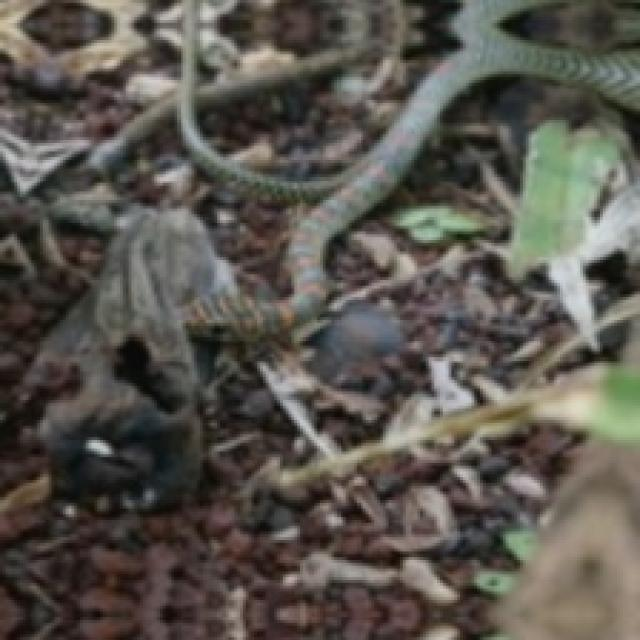paradise tree snake: (177, 0, 637, 317)
